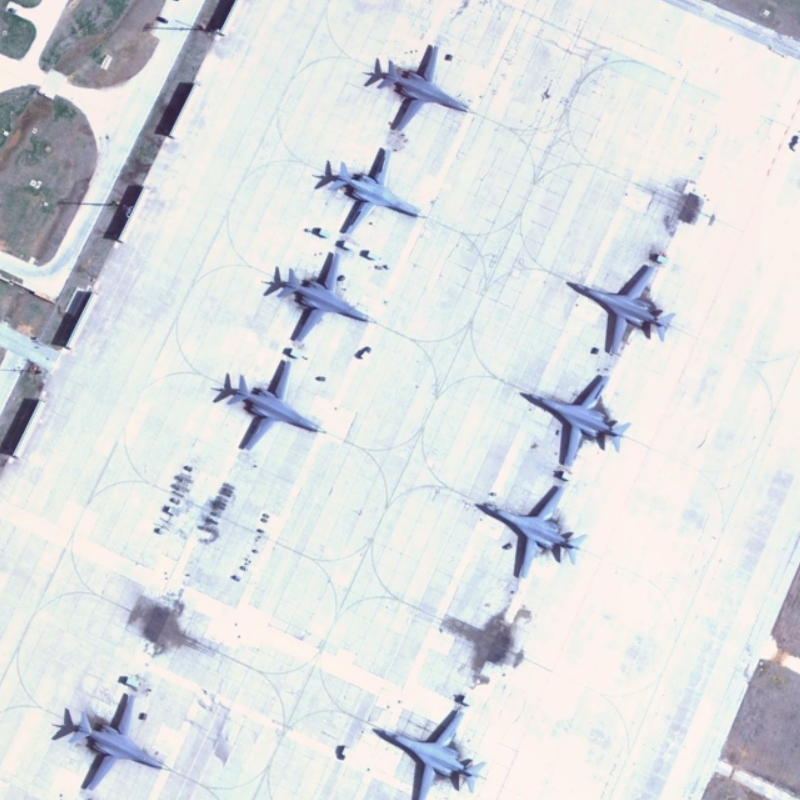A10: (57, 686, 176, 798), (211, 354, 331, 461), (559, 259, 678, 360), (367, 701, 488, 800), (474, 480, 584, 584), (362, 42, 483, 133), (321, 140, 430, 238), (516, 376, 634, 465), (268, 257, 386, 344)
